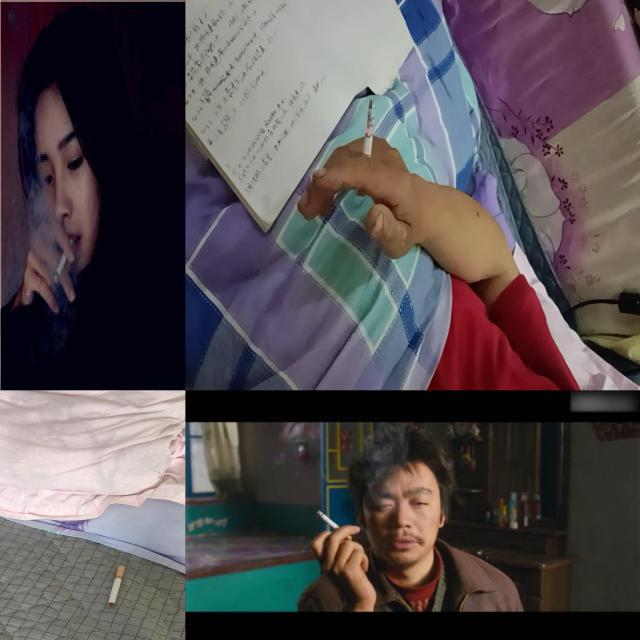cigarette: (306, 109, 510, 294), (314, 508, 382, 616), (18, 235, 80, 310), (108, 566, 126, 607)
